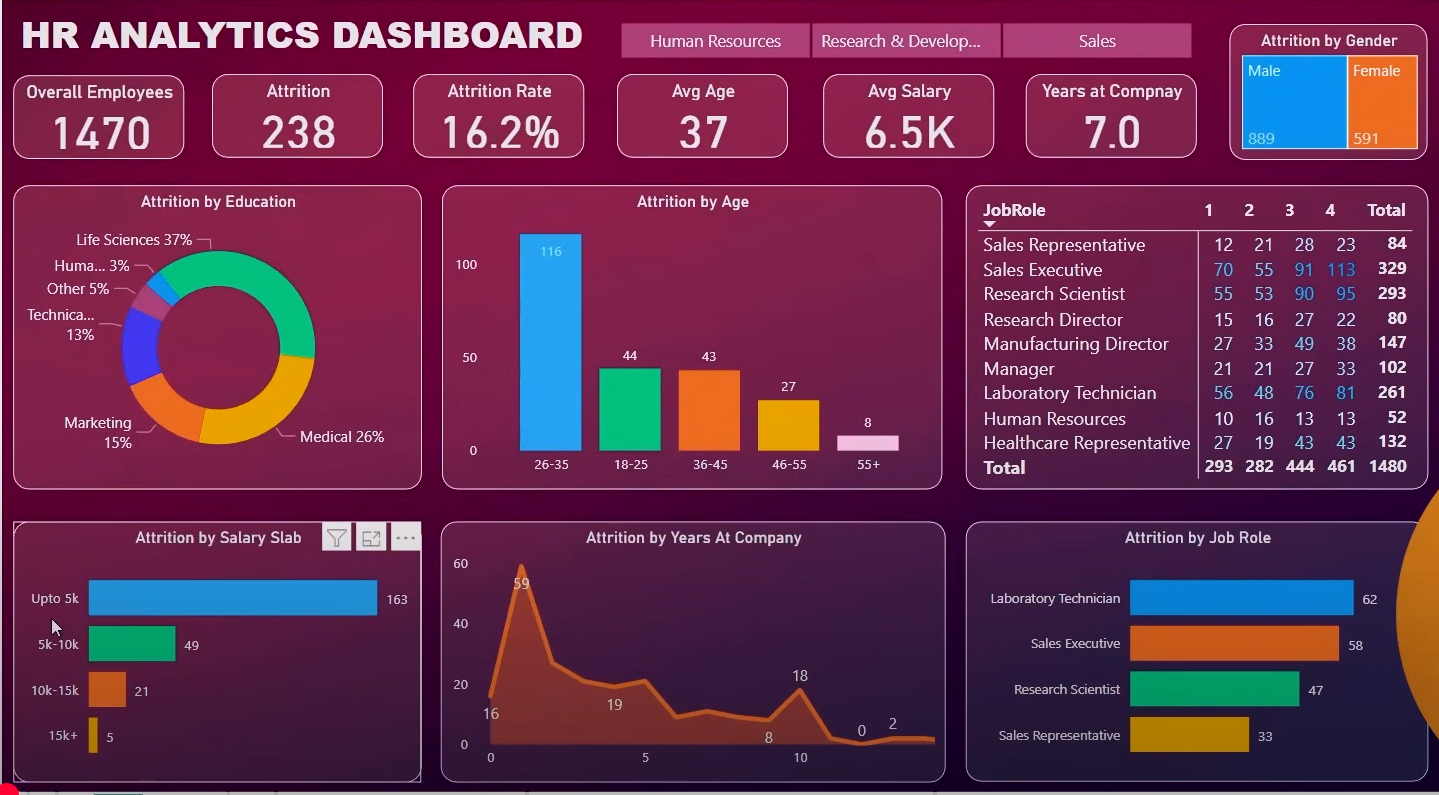

This screenshot's page, from the dashboard's own definition file:
{"tool":"powerbi","page":{"name":"Page 1","canvas":[1280,720],"ordinal":0},"visuals":[{"type":"card","title":"Count of Employee","fields":{"Values":["CountNonNull(HR_Analytics.EmpID)"]},"box":[11.4,121.4,150,75.7],"z":0},{"type":"card","title":"Attrition count","fields":{"Values":["Sum(HR_Analytics.Attriton count)"]},"box":[187.1,122.9,150,75.7],"z":1000},{"type":"card","title":"Attrition Rate","fields":{"Values":["HR_Analytics.Attrition Rate"]},"box":[362.9,124.3,150,75.7],"z":2000},{"type":"card","title":"Average Age","fields":{"Values":["Avg(HR_Analytics.Age)"]},"box":[540,125.7,150,75.7],"z":3000},{"type":"card","title":"Average Salary","fields":{"Values":["Avg(HR_Analytics.MonthlyIncome)"]},"box":[712.9,125.7,150,75.7],"z":4000},{"type":"card","title":"Average Age","fields":{"Values":["Avg(HR_Analytics.YearsAtCompany)"]},"box":[891.4,127.1,150,75.7],"z":5000},{"type":"donutChart","title":"Attriton by EducationField","fields":{"Category":["HR_Analytics.EducationField"],"Y":["Sum(HR_Analytics.Attriton count)"]},"box":[11.4,225.7,351.4,255.7],"z":6000},{"type":"clusteredColumnChart","title":"Attriton by Age Group","fields":{"Y":["Sum(HR_Analytics.Attriton count)"],"Category":["HR_Analytics.AgeGroup"]},"box":[390,225.7,501.4,255.7],"z":7000},{"type":"pivotTable","fields":{"Rows":["HR_Analytics.JobRole"],"Columns":["HR_Analytics.JobSatisfaction"],"Values":["Sum(HR_Analytics.Attriton count)"]},"box":[911.4,225.7,355.7,255.7],"z":8000},{"type":"clusteredBarChart","title":"Attriton by Salary","fields":{"Category":["HR_Analytics.SalarySlab"],"Y":["Sum(HR_Analytics.Attriton count)"]},"box":[11.4,495.7,351.4,210],"z":9000},{"type":"areaChart","title":"Attriton by years at  company","fields":{"Category":["HR_Analytics.AgeGroup"],"Y":["Sum(HR_Analytics.Attriton count)"]},"box":[390,495.7,501.4,210],"z":10000},{"type":"clusteredBarChart","title":"Attriton by Job Role","fields":{"Category":["HR_Analytics.JobRole"],"Y":["Sum(HR_Analytics.Attriton count)"]},"box":[911.4,495.7,355.7,210],"z":11000},{"type":"treemap","title":"Attriton by Gender","fields":{"Values":["Sum(HR_Analytics.Attriton count)"],"Group":["HR_Analytics.Gender"]},"box":[1054.3,27.1,212.9,175.7],"z":12000},{"type":"slicer","fields":{"Values":["HR_Analytics.Department"]},"box":[468.6,27.1,572.9,84.3],"z":13000},{"type":"textbox","box":[11.4,27.1,442.9,84.3],"z":14000}]}

Visuals, with their boxes in screenshot pixels (x1, y1, x2, y2), scaled from the page's 1280x720 canvas onto the 1439x795 screenshot:
"Count of Employee" card: bbox=(13, 134, 181, 218)
"Attrition count" card: bbox=(210, 136, 379, 219)
"Attrition Rate" card: bbox=(408, 137, 577, 221)
"Average Age" card: bbox=(607, 139, 776, 222)
"Average Salary" card: bbox=(801, 139, 970, 222)
"Average Age" card: bbox=(1002, 140, 1171, 224)
"Attriton by EducationField" donutChart: bbox=(13, 249, 408, 532)
"Attriton by Age Group" clusteredColumnChart: bbox=(438, 249, 1002, 532)
pivotTable - HR_Analytics.JobRole x HR_Analytics.JobSatisfaction: bbox=(1025, 249, 1424, 532)
"Attriton by Salary" clusteredBarChart: bbox=(13, 547, 408, 779)
"Attriton by years at  company" areaChart: bbox=(438, 547, 1002, 779)
"Attriton by Job Role" clusteredBarChart: bbox=(1025, 547, 1424, 779)
"Attriton by Gender" treemap: bbox=(1185, 30, 1425, 224)
slicer - HR_Analytics.Department: bbox=(527, 30, 1171, 123)
textbox: bbox=(13, 30, 511, 123)
